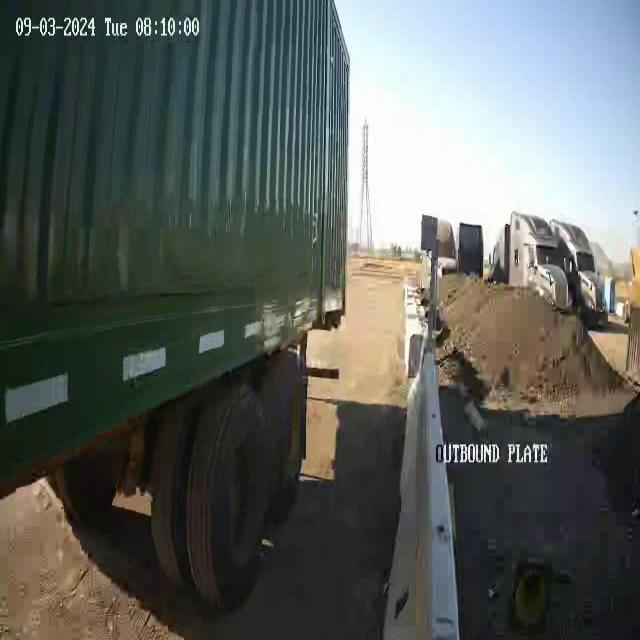TRUCK_OUT: (1, 1, 352, 612)
